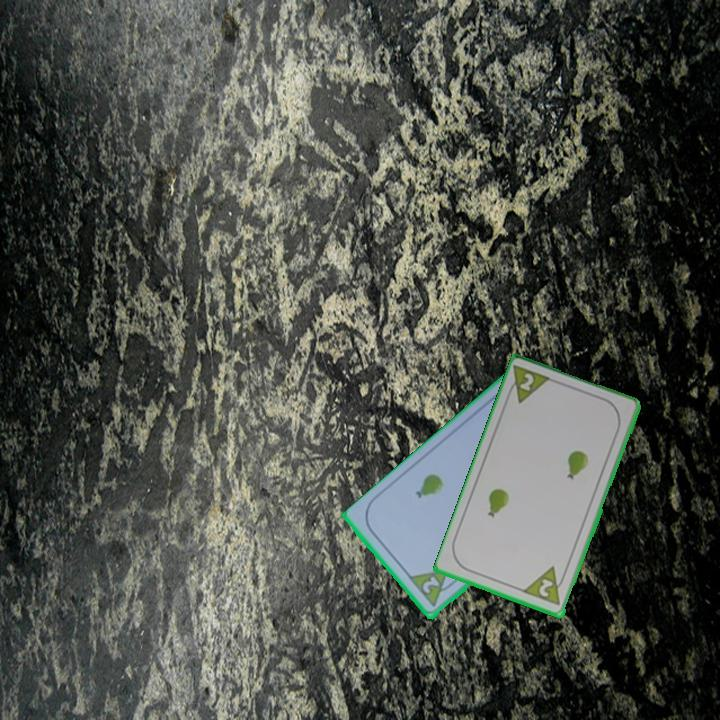2p: (406, 566, 459, 611), (521, 563, 570, 609), (516, 370, 537, 395)
